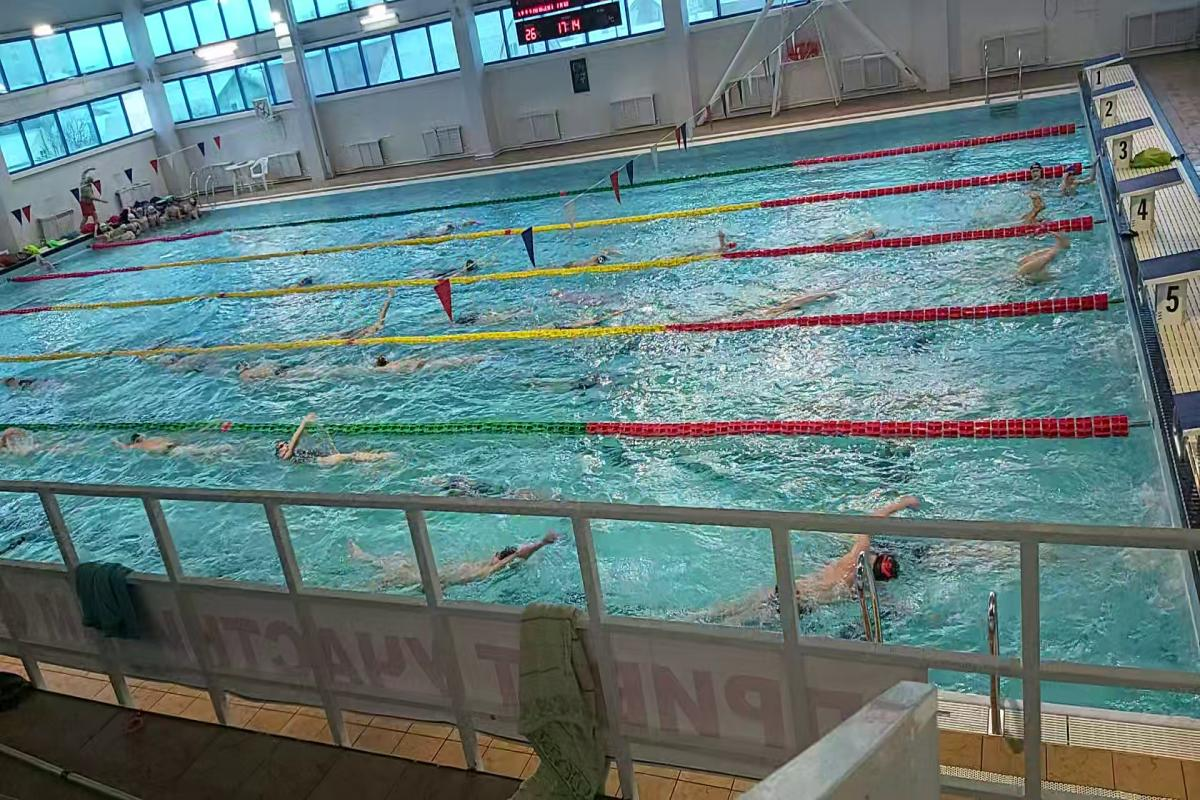swimmer: (439, 525, 572, 587), (797, 538, 912, 604), (264, 433, 408, 472), (421, 462, 544, 496), (358, 349, 492, 375), (110, 432, 235, 458), (332, 296, 400, 336), (758, 282, 840, 312), (226, 356, 320, 382), (2, 366, 72, 398), (445, 308, 540, 328), (1, 429, 72, 455), (144, 357, 212, 379), (419, 258, 499, 275), (553, 248, 626, 264), (695, 230, 745, 251), (827, 223, 887, 238)
